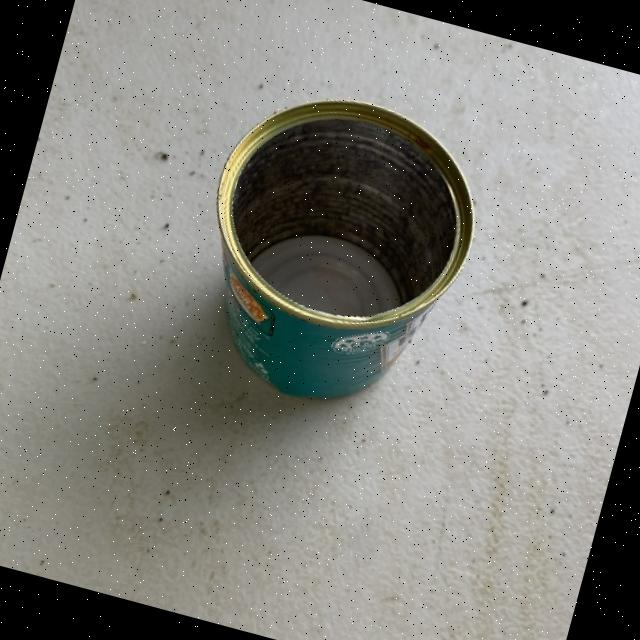metal: (170, 68, 500, 430)
